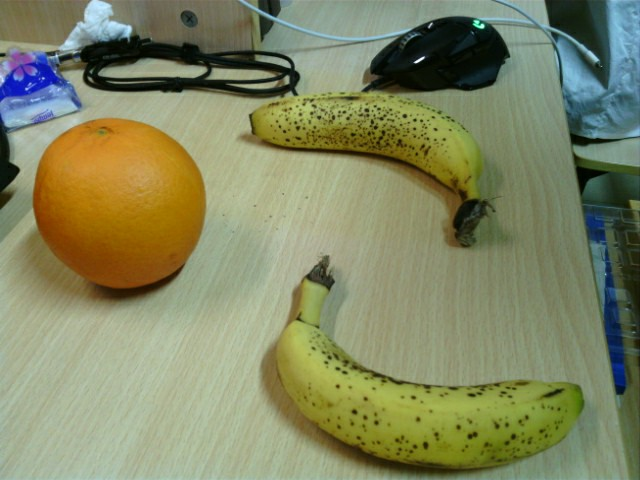normal_banana: (276, 256, 585, 468), (248, 92, 494, 249)
normal_orange: (33, 119, 207, 290)
